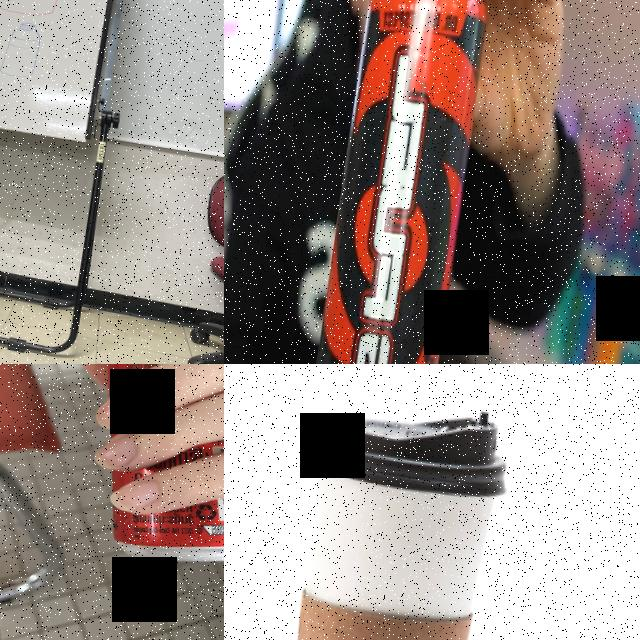can: (304, 0, 504, 364), (49, 364, 224, 583)
cup: (240, 391, 517, 640)
